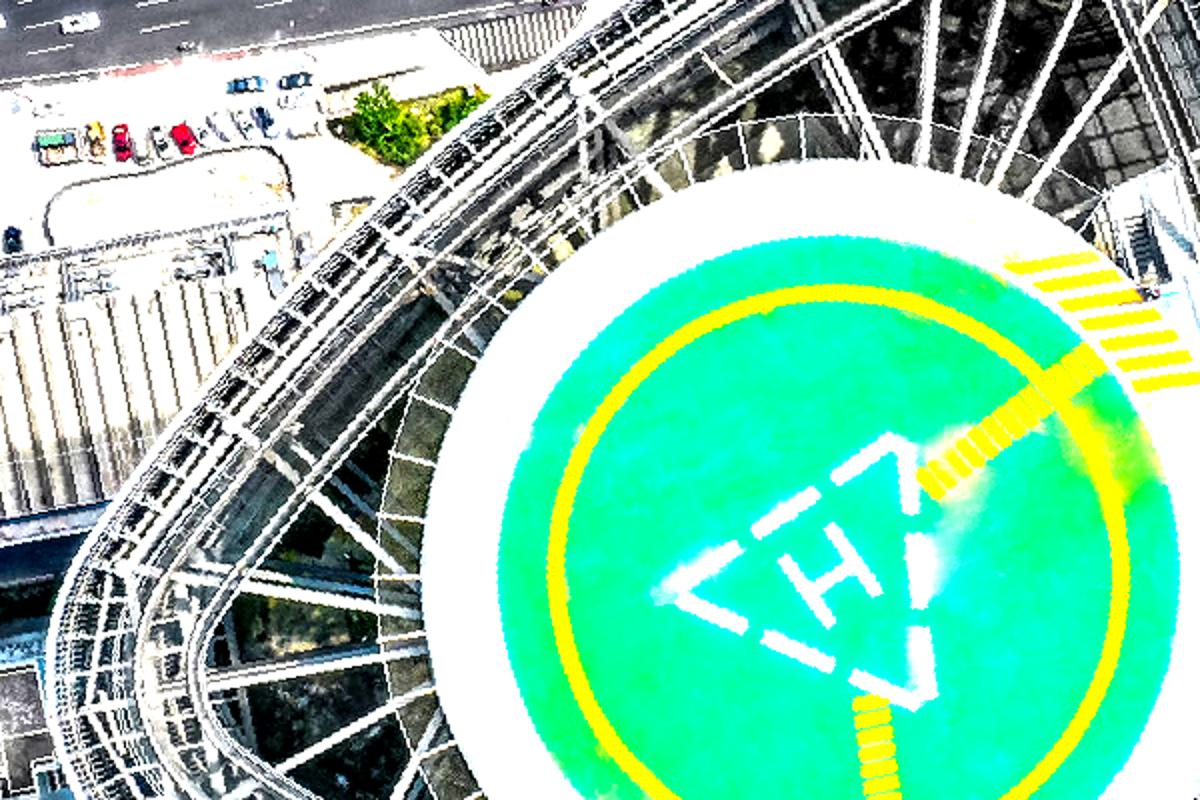Apron: (545, 276, 1133, 800)
